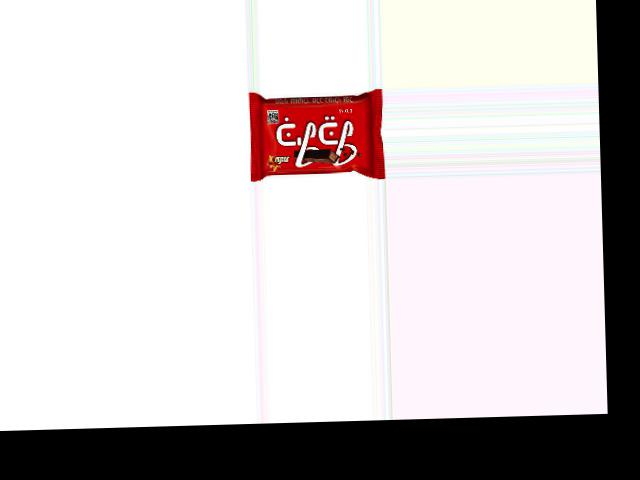chocolate: (249, 87, 384, 181)
